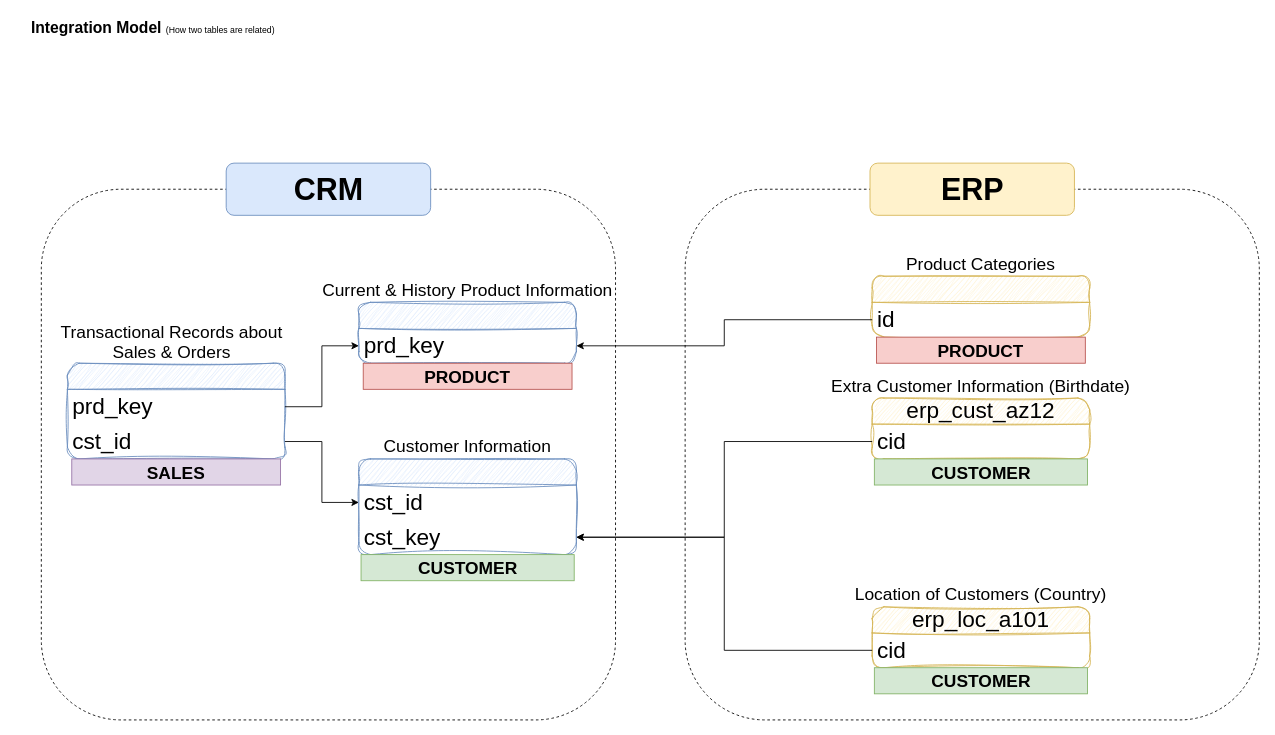
Some shapes in this 1275 by 735 pixel diagram are drawn without their labels. The box of each missing label's shape, as (x1, y1, x2, y2) in pixels:
crm_cust_info: (358, 458, 576, 555)
crm_prd_info: (358, 301, 576, 363)
crm_sales_details: (67, 362, 285, 459)
erp_px_cat_g1v2: (871, 275, 1090, 337)
